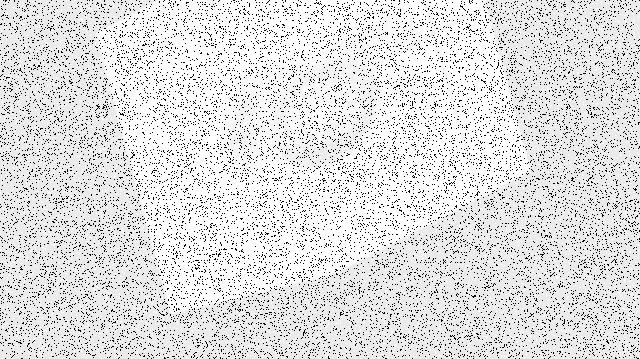pot: (270, 58, 381, 171)
